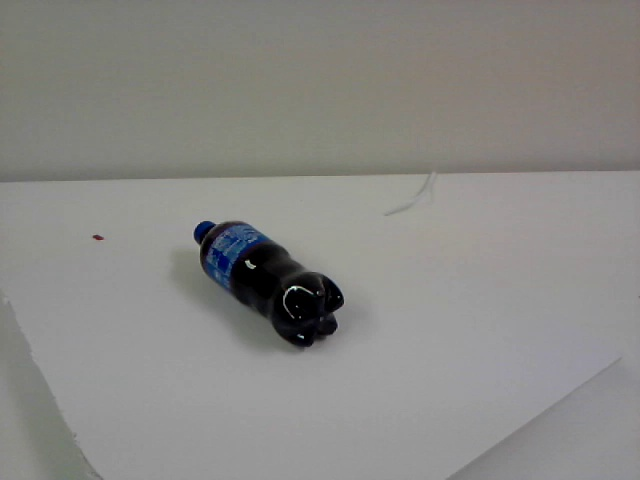botolplastik: (193, 219, 345, 348)
